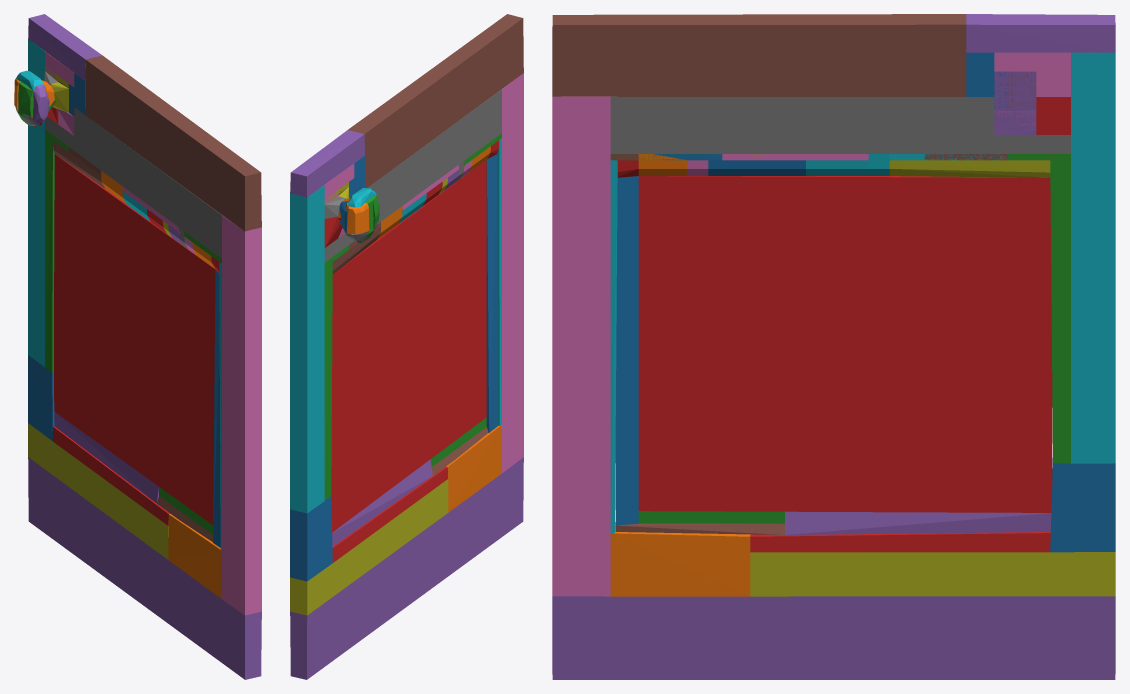
File: Door_06_cvx.obj
3 renders of one model, left to right at view 1: azimuth 30°, elevation 25°; view 2: azimuth 150°, elevation 25°; view 3: azimuth 270°, elevation 25°, orthographic. The views are drawn at different scales.
Parts seen in each view (by area): view 1: scenes/apartment_0000_coacd/output/Unknown/Kitchen_Extractor/Doo; view 2: scenes/apartment_0000_coacd/output/Unknown/Kitchen_Extractor/Doo; view 3: scenes/apartment_0000_coacd/output/Unknown/Kitchen_Extractor/Doo.
Part boxes in pixels (x1,y1,x2,y2): scenes/apartment_0000_coacd/output/Unknown/Kitchen_Extractor/Doo: [14, 14, 261, 679]; scenes/apartment_0000_coacd/output/Unknown/Kitchen_Extractor/Doo: [290, 14, 523, 679]; scenes/apartment_0000_coacd/output/Unknown/Kitchen_Extractor/Doo: [552, 14, 1115, 679].
Bounding box in the file's own units: 0.0671 × 0.5832 × 0.4543.
